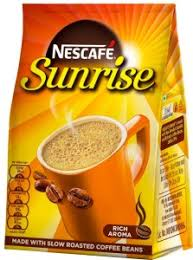nescafe-classic/gold-big: (3, 4, 185, 249)
